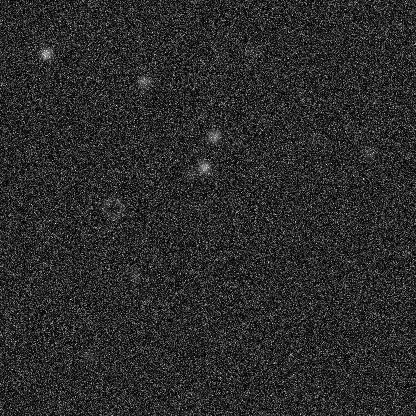Ring: (100, 196, 124, 220)
Spot: (283, 355, 299, 371), (196, 159, 212, 175), (38, 45, 54, 61), (242, 42, 258, 58), (135, 73, 151, 89), (127, 268, 143, 284), (182, 165, 198, 181), (206, 128, 222, 144), (304, 131, 320, 147), (81, 347, 97, 363), (361, 146, 377, 162)
